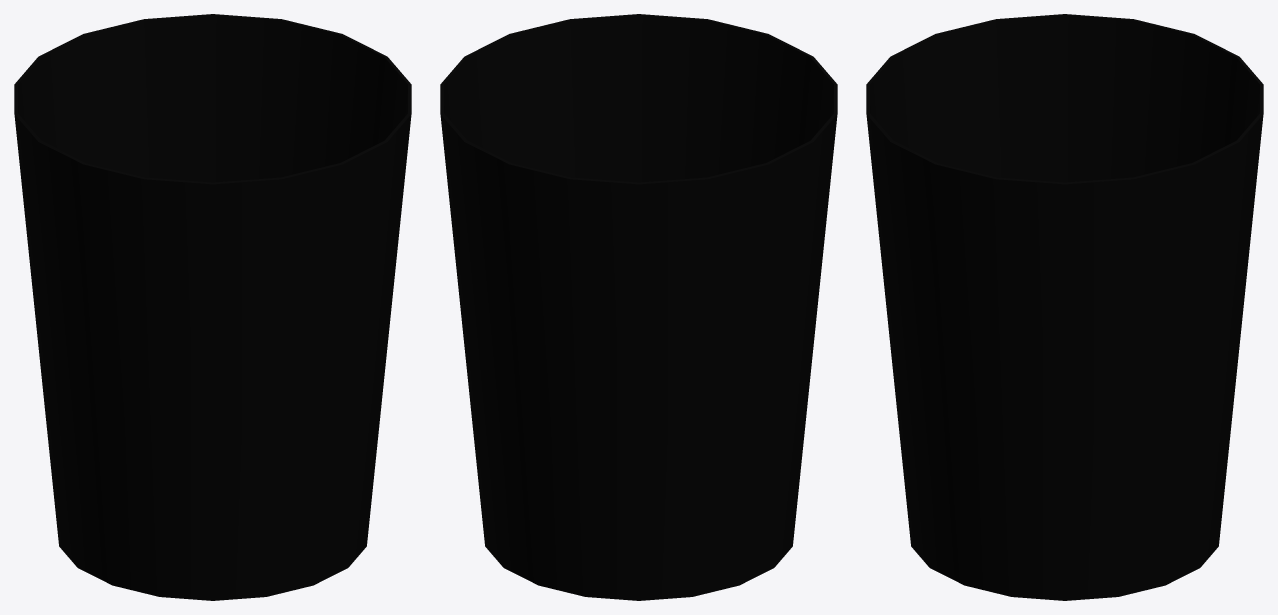
File: TrashBin_office.FBX
3 renders of one model, left to right at view 1: azimuth 30°, elevation 25°; view 2: azimuth 150°, elevation 25°; view 3: azimuth 270°, elevation 25°, orthographic.
Parts seen in each view (by area): view 1: TrashBin_off; view 2: TrashBin_off; view 3: TrashBin_off.
Boxes of the visible parts, x1,y1,x2,y2 form: TrashBin_off: (14,14,411,600); TrashBin_off: (440,14,837,600); TrashBin_off: (866,14,1263,600).
Bounding box in the file's own units: 0.3355 × 0.4003 × 0.3304.
